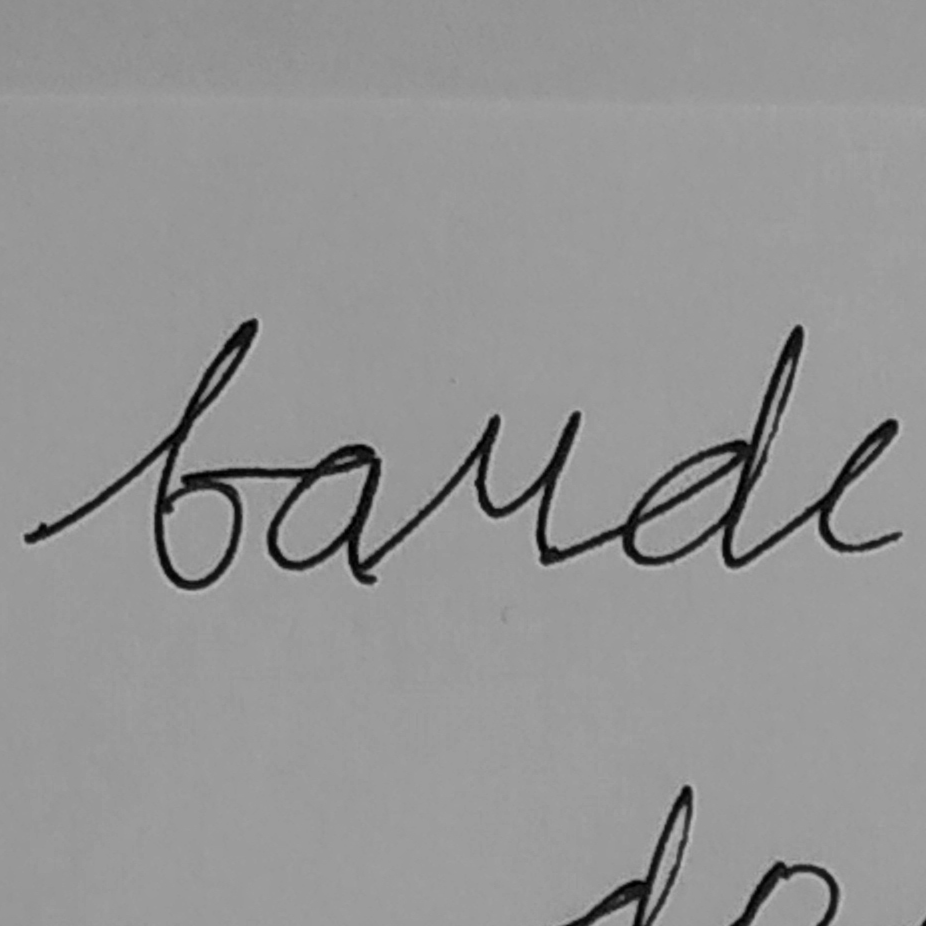a: (263, 437, 390, 592)
b: (146, 314, 261, 592)
d: (617, 317, 806, 572)
e: (812, 414, 909, 556)
r: (447, 405, 585, 573)
